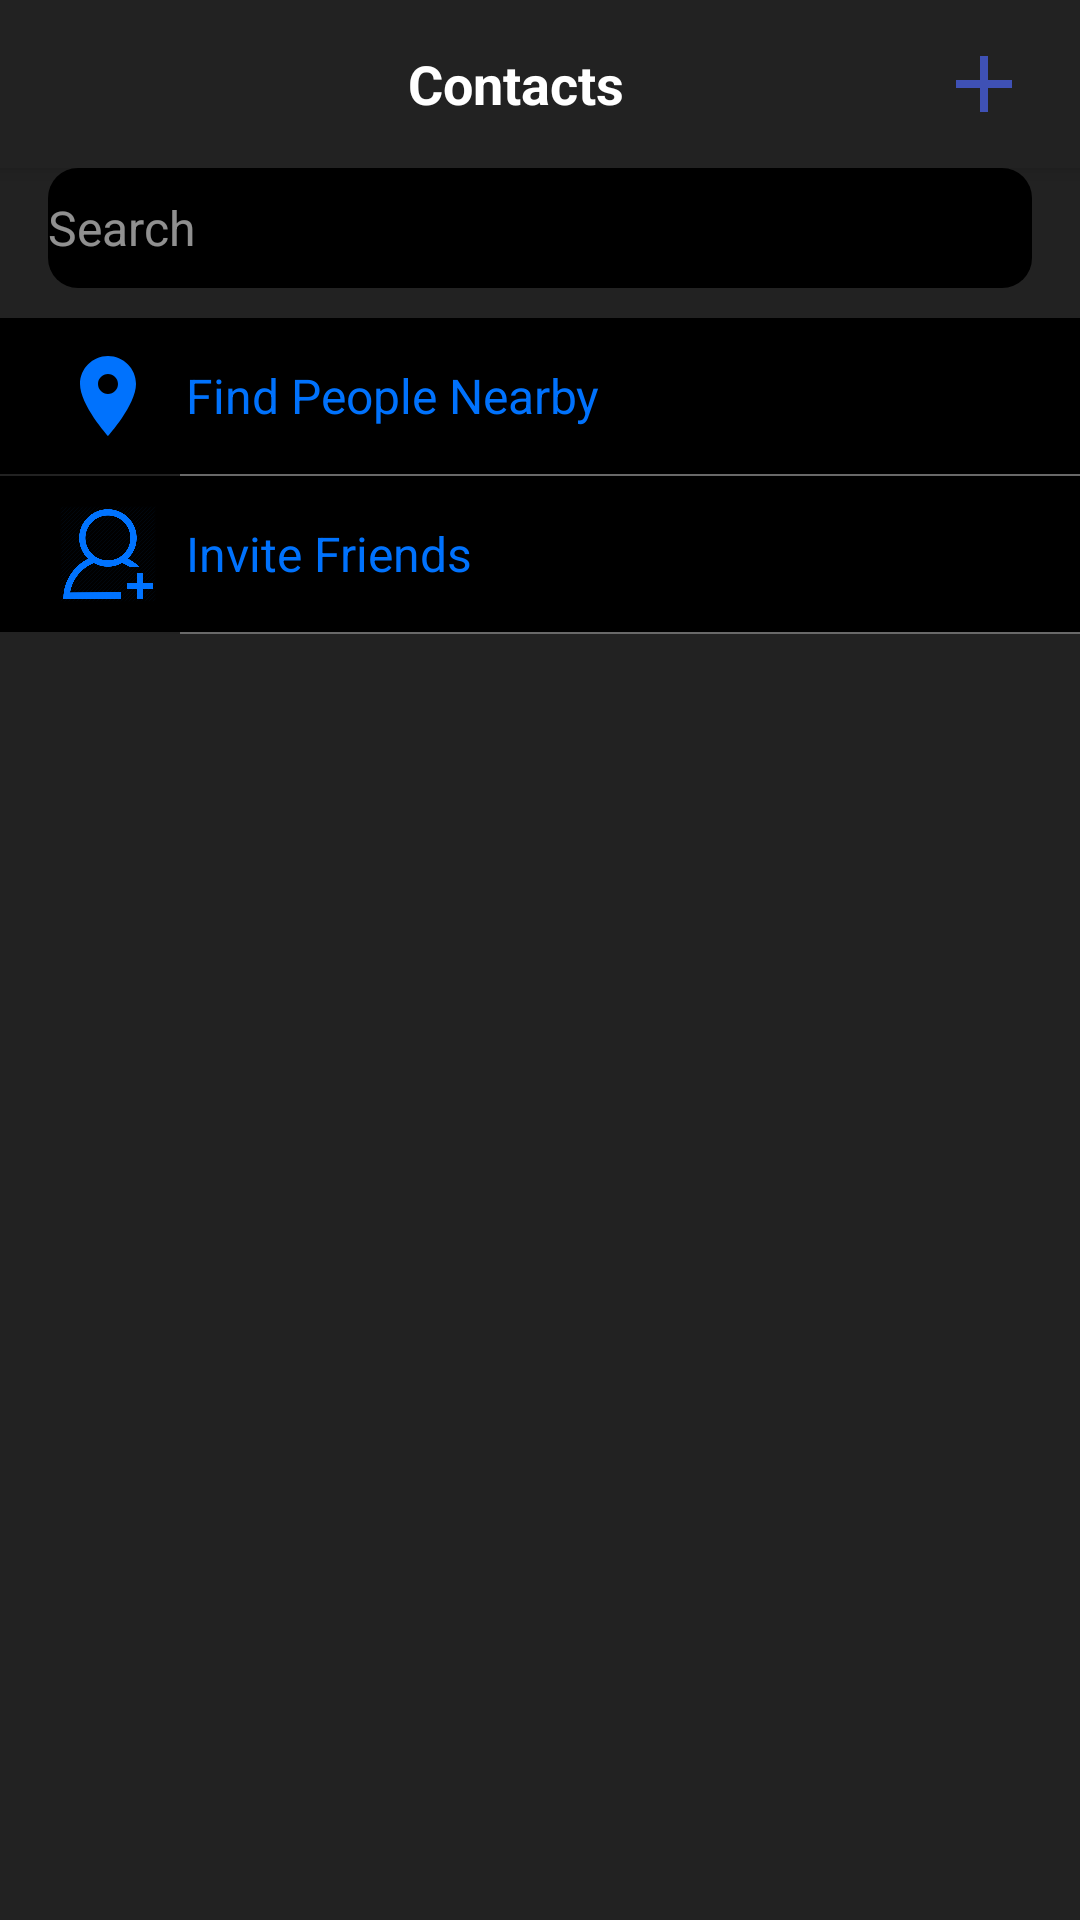

Icons on this 1080*1920 Android screen, each with the point to tap as (x,y):
add user: (108,554)
location on: (108,396)
